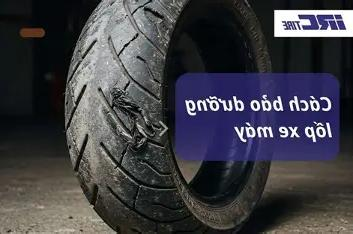ROAD_OBSTACLE: (63, 0, 273, 234)
